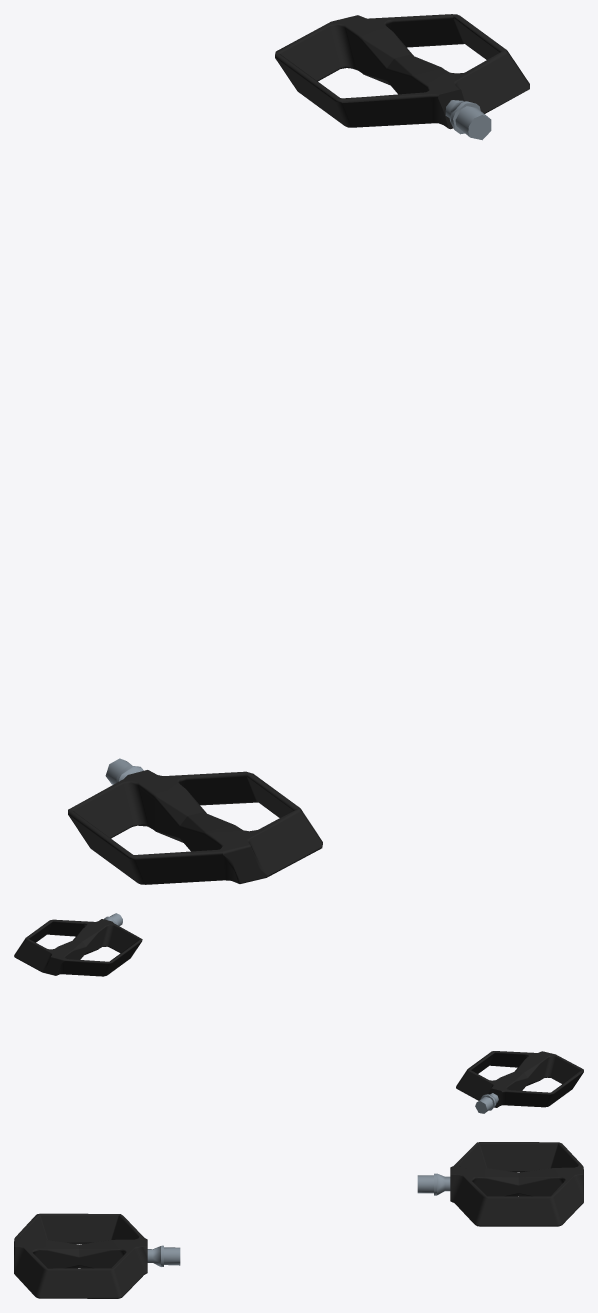
File: pedals_LOD0.fbx
3 renders of one model, top to bottom at view 1: azimuth 30°, elevation 25°; view 2: azimuth 150°, elevation 25°; view 3: azimuth 270°, elevation 25°, orthographic. The views are drawn at different scales.
Visible parts, largest first — view 1: MM_carbon_n0579_left_pedal, MM_carbon_n0589_right_pedal, MM_carbon_n0591_right_pedal; view 2: MM_carbon_n0589_right_pedal, MM_carbon_n0579_left_pedal, MM_carbon_n0581_left_pedal; view 3: MM_carbon_n0579_left_pedal, MM_carbon_n0589_right_pedal, MM_carbon_n0591_right_pedal, MM_carbon_n0581_left_pedal.
Part boxes in pixels (x1=…): MM_carbon_n0579_left_pedal: x1=68, y1=770, x2=322, y2=884; MM_carbon_n0589_right_pedal: x1=275, y1=14, x2=529, y2=129; MM_carbon_n0591_right_pedal: x1=445, y1=100, x2=491, y2=140; MM_carbon_n0589_right_pedal: x1=14, y1=919, x2=142, y2=976; MM_carbon_n0579_left_pedal: x1=456, y1=1051, x2=583, y2=1107; MM_carbon_n0581_left_pedal: x1=475, y1=1093, x2=498, y2=1113; MM_carbon_n0579_left_pedal: x1=14, y1=1213, x2=147, y2=1298; MM_carbon_n0589_right_pedal: x1=450, y1=1142, x2=583, y2=1226; MM_carbon_n0591_right_pedal: x1=417, y1=1173, x2=450, y2=1195; MM_carbon_n0581_left_pedal: x1=147, y1=1245, x2=180, y2=1266.
Bounding box in the file's own units: 0.3741 × 0.2001 × 0.384.
